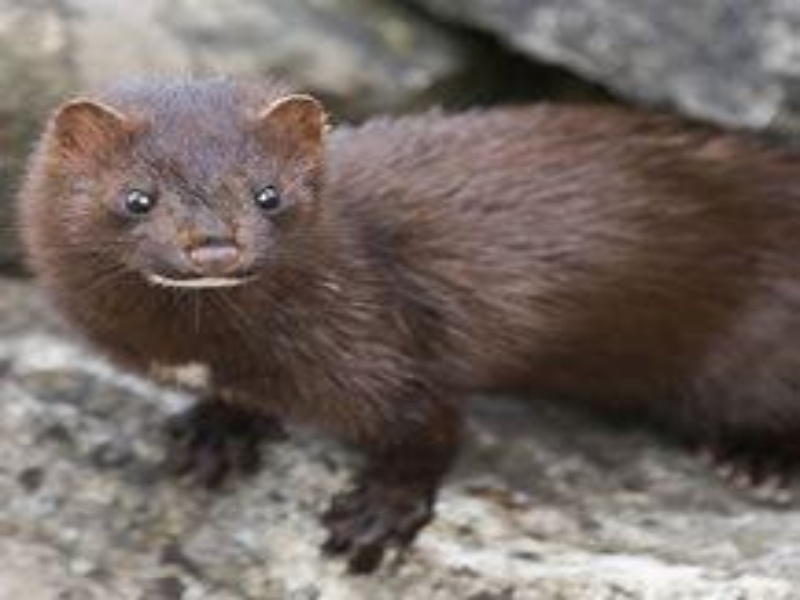minkish: (16, 67, 798, 572)
